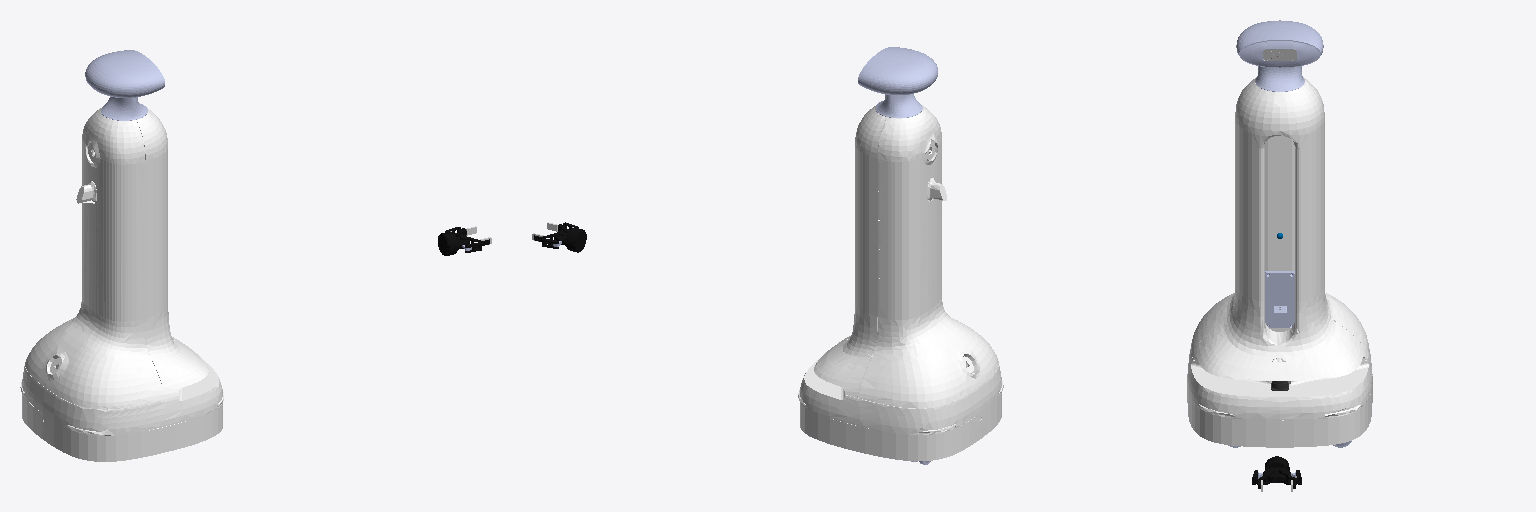
--- Facts derived from the render (not from the file) ---
3 views of the same robot in one strip: view 1: azimuth 30°, elevation 25°; view 2: azimuth 150°, elevation 25°; view 3: azimuth 270°, elevation 25° (orthographic).
Robot: mobile — 42 links, 41 joints (11 revolute, 15 continuous, 1 prismatic, 14 fixed); root link BaseLink; default pose: joints at zero except 3 at the middle of their limits (j2s7s300_joint_2 = 3.14, j2s7s300_joint_4 = 3.14, j2s7s300_joint_6 = 3.14).
Visible links, largest first — view 1: BodyShell, HeadShell, NeckShell; view 2: BodyShell, HeadShell, NeckShell; view 3: BodyShell, BaseLink, HeadShell, ArmBase, NeckShell.
Boxes of the visible links, x1,y1,x2,y2 form: BodyShell: (20, 108, 224, 461); HeadShell: (85, 50, 164, 97); NeckShell: (101, 97, 147, 120); BodyShell: (798, 105, 1003, 461); HeadShell: (858, 47, 937, 94); NeckShell: (875, 94, 922, 117); BodyShell: (1187, 77, 1372, 447); BaseLink: (1265, 135, 1294, 386); HeadShell: (1236, 20, 1323, 67); ArmBase: (1265, 271, 1294, 327); NeckShell: (1255, 66, 1304, 91).
Bounding box of the posed robot: 1.61 × 0.5562 × 1.29 m (x, y, z).
Meshes: 33 distinct files referenced, 25 mesh visuals loaded (21 binary STL); not drawn: 16 (reference not matched to a file when rendering).

The robot description file, URDF, robot "mobile":
<?xml version="1.0" encoding="utf-8"?>
<robot name="mobile">
  <!-- http://wiki.ros.org/simulator_gazebo/Tutorials/ListOfMaterials -->
  <!-- Bigger kp make it more stable -->
  <gazebo reference="BaseLink">
    <kp value="10000000000.0"/>
    <kd value="1.0"/>
    <mu1>0.1</mu1>
    <mu2>0.1</mu2>
    <self_collide>0</self_collide>
  </gazebo>
  <gazebo reference="ArmBase">
    <kp value="10000000000.0"/>
    <kd value="1.0"/>
    <mu1>0.1</mu1>
    <mu2>0.1</mu2>
    <self_collide>0</self_collide>
    <material>Gazebo/Yellow</material>
  </gazebo>
  <gazebo reference="DriWheel_R">
    <kp value="1000000000000.0"/>
    <kd value="1.0"/>
    <mu1>0.8</mu1>
    <mu2>0.8</mu2>
    <material>Gazebo/Blue</material>
  </gazebo>
  <gazebo reference="DriWheel_L">
    <kp value="1000000000000.0"/>
    <kd value="1.0"/>
    <mu1>0.8</mu1>
    <mu2>0.8</mu2>
    <material>Gazebo/Blue</material>
  </gazebo>
  <gazebo reference="UniWheel_LF">
    <mu1>0.8</mu1>
    <mu2>0.8</mu2>
    <material>Gazebo/BlueTransparent</material>
  </gazebo>
  <gazebo reference="UniWheel_RF">
    <mu1>0.8</mu1>
    <mu2>0.8</mu2>
    <material>Gazebo/BlueTransparent</material>
  </gazebo>
  <gazebo reference="UniWheel_LB">
    <mu1>0.8</mu1>
    <mu2>0.8</mu2>
    <material>Gazebo/BlueTransparent</material>
  </gazebo>
  <gazebo reference="UniWheel_RB">
    <mu1>0.8</mu1>
    <mu2>0.8</mu2>
    <material>Gazebo/BlueTransparent</material>
  </gazebo>
  <gazebo reference="HeadShell">
    <kp value="10000000000.0"/>
    <kd value="1.0"/>
    <material>Gazebo/RedBright</material>
  </gazebo>
  <gazebo reference="Radar_2D">
    <kp value="10000000000.0"/>
    <kd value="1.0"/>
    <material>Gazebo/DarkGrey</material>
  </gazebo>
  <gazebo reference="VisualPoint1">
    <material>Gazebo/Red</material>
  </gazebo>
  <gazebo reference="VisualPoint2">
    <material>Gazebo/Red</material>
  </gazebo>
  <gazebo reference="VisualPoint3">
    <material>Gazebo/Red</material>
  </gazebo>
  <gazebo reference="VisualWheel_L">
    <material>Gazebo/Red</material>
  </gazebo>
  <gazebo reference="VisualWheel_R">
    <material>Gazebo/Yellow</material>
  </gazebo>
  <gazebo reference="j2s7s300_link_base">
    <material>Gazebo/Grey</material>
  </gazebo>
  <gazebo reference="j2s7s300_link_1">
    <material>Gazebo/Grey</material>
  </gazebo>
  <gazebo reference="j2s7s300_link_2">
    <material>Gazebo/Grey</material>
  </gazebo>
  <gazebo reference="j2s7s300_link_3">
    <material>Gazebo/Grey</material>
  </gazebo>
  <gazebo reference="j2s7s300_link_4">
    <material>Gazebo/Grey</material>
  </gazebo>
  <gazebo reference="j2s7s300_link_5">
    <material>Gazebo/Grey</material>
  </gazebo>
  <gazebo reference="j2s7s300_link_6">
    <material>Gazebo/Grey</material>
  </gazebo>
  <gazebo reference="robotiq_base_link">
    <material>Gazebo/Grey</material>
    <self_collide>0</self_collide>
  </gazebo>
  <gazebo reference="right_inner_knuckle">
    <self_collide>0</self_collide>
  </gazebo>
  <gazebo reference="right_outer_knuckle">
    <self_collide>0</self_collide>
  </gazebo>
  <gazebo reference="right_outer_finger">
    <self_collide>0</self_collide>
  </gazebo>
  <gazebo reference="right_inner_finger">
  <material>Gazebo/Red</material>
    <self_collide>0</self_collide>
  </gazebo>
  <gazebo reference="left_inner_knuckle">
    <self_collide>0</self_collide>
  </gazebo>
  <gazebo reference="left_outer_knuckle">
    <self_collide>0</self_collide>
  </gazebo>
  <gazebo reference="left_outer_finger">
    <self_collide>0</self_collide>
  </gazebo>
  <gazebo reference="left_inner_finger">
    <self_collide>0</self_collide>
  </gazebo>
  <gazebo reference="right_inner_finger_pad">
    <self_collide>1</self_collide>
  </gazebo>
  <gazebo reference="left_inner_finger_pad">
    <self_collide>1</self_collide>
  </gazebo>
  <gazebo reference="mobile_end_effector">
    <material>Gazebo/GreenTransparent</material>
    <self_collide>0</self_collide>
  </gazebo>
  <!-- Mobile base -->
  <link
    name="BaseLink">
    <inertial>
      <origin
        xyz="-0.0311802154982621 1.17504338130459E-05 0.315211906825966"
        rpy="0 0 0" />
      <mass
        value="8.7968329124645" />
      <inertia
        ixx="0.186258716514256"
        ixy="-1.48518742834124E-05"
        ixz="-0.00154696059136798"
        iyy="0.203780508528874"
        iyz="1.05129920553985E-05"
        izz="0.079091000039605" />
    </inertial>
    <visual>
      <origin
        xyz="0 0 0"
        rpy="0 0 0" />
      <geometry>
        <mesh
          filename="package://mobile_base_urdf/model/base/v4/meshes/BaseLink.STL" />
      </geometry>
      <material
        name="">
        <color
          rgba="1 1 1 1" />
      </material>
    </visual>
    <collision>
      <origin rpy="0 0 0" xyz="0 0 0.025"/>
      <geometry>
        <box size="0.5 0.14 0.15"/>
      </geometry>
    </collision>
  </link>
  <link
    name="Radar_2D">
    <inertial>
      <origin
        xyz="6.20383105998101E-10 0.0216642806157543 -9.5633137657869E-05"
        rpy="0 0 0" />
      <mass
        value="0.111414847916921" />
      <inertia
        ixx="4.42568757050089E-05"
        ixy="5.54707912683361E-13"
        ixz="-1.43915040446869E-12"
        iyy="4.24275016408878E-05"
        iyz="-1.99911186975257E-07"
        izz="4.38954994136943E-05" />
    </inertial>
    <visual>
      <origin
        xyz="0 0 0"
        rpy="0 0 0" />
      <geometry>
        <mesh
          filename="package://mobile_base_urdf/model/base/v4/meshes/Lidar.STL" />
      </geometry>
      <material
        name="">
        <color
          rgba="0.258823529411765 0.258823529411765 0.258823529411765 1" />
      </material>
    </visual>
    <collision>
      <origin
        xyz="0 0 0"
        rpy="0 0 0" />
      <geometry>
        <mesh
          filename="package://mobile_base_urdf/model/base/v4/meshes/Lidar.STL" />
      </geometry>
    </collision>
  </link>
  <joint
    name="JT_Radar_2D"
    type="fixed">
    <origin
      xyz="0.1985 0 0.095"
      rpy="1.5708 0 1.5708" />
    <parent
      link="BaseLink" />
    <child
      link="Radar_2D" />
    <axis
      xyz="0 0 0" />
  </joint>
  <link
    name="UniWheelBase_RF">
    <inertial>
      <origin
        xyz="-0.0289122121608881 7.96029908656237E-14 -0.0182260960322876"
        rpy="0 0 0" />
      <mass
        value="0.0847351495375796" />
      <inertia
        ixx="3.34756139191196E-05"
        ixy="7.50114488966578E-17"
        ixz="-1.16340041790674E-05"
        iyy="6.07135705376021E-05"
        iyz="3.20838303655994E-17"
        izz="3.49474283390519E-05" />
    </inertial>
    <visual>
      <origin
        xyz="0 0 0"
        rpy="0 0 0" />
      <geometry>
        <mesh
          filename="package://mobile_base_urdf/model/base/v4/meshes/UniWheelPivot_RF.STL" />
      </geometry>
      <material
        name="">
        <color
          rgba="1 1 1 1" />
      </material>
    </visual>
  </link>
  <joint
    name="JT_UniWheelBase_RF"
    type="continuous">
    <origin
      xyz="0.185 -0.1585 -0.0043169"
      rpy="1.5708 -1.5708 0" />
    <parent
      link="BaseLink" />
    <child
      link="UniWheelBase_RF" />
    <axis
      xyz="1 0 0" />
    <limit
      lower="-1000000000000"
      upper="1000000000000"
      effort="100"
      velocity="30" />
    <dynamics
      damping="0.01"
      friction="0.001"/>
  </joint>
  <link
    name="UniWheel_RF">
    <inertial>
      <origin
        xyz="2.82717186675385E-08 2.14311952628776E-08 3.03619636168873E-08"
        rpy="0 0 0" />
      <mass
        value="0.131455385692783" />
      <inertia
        ixx="4.67616618745289E-05"
        ixy="-2.20955469793984E-11"
        ixz="-5.77989335033432E-10"
        iyy="8.85134138944847E-05"
        iyz="-2.24056751711574E-11"
        izz="4.67628266240816E-05" />
    </inertial>
    <visual>
      <origin
        xyz="0 0 0"
        rpy="0 0 0" />
      <geometry>
        <mesh
          filename="package://mobile_base_urdf/model/base/v4/meshes/UniWheel_RF.STL" />
      </geometry>
      <material
        name="">
        <color
          rgba="0.792156862745098 0.819607843137255 0.933333333333333 1" />
      </material>
    </visual>
    <collision>
      <origin
        xyz="0 0 0"
        rpy="1.57079632679489661923 0 0" />
      <geometry>
        <cylinder length="0.001" radius="0.0375" />
      </geometry>
    </collision>
  </link>
  <joint
    name="JT_UniWheel_RF"
    type="continuous">
    <origin
      xyz="-0.042183 0 -0.024"
      rpy="0 -1.5708 0" />
    <parent
      link="UniWheelBase_RF" />
    <child
      link="UniWheel_RF" />
    <axis
      xyz="0 1 0" />
    <limit
      lower="-1000000000000"
      upper="1000000000000"
      effort="100"
      velocity="30" />
    <dynamics
      damping="0.01"
      friction="0.001"/>
  </joint>
  <link
    name="UniWheelBase_LF">
    <inertial>
      <origin
        xyz="-0.028912212160888 7.96029908656237E-14 -0.0182260960322876"
        rpy="0 0 0" />
      <mass
        value="0.0847351495375796" />
      <inertia
        ixx="3.34756139191196E-05"
        ixy="7.50107342044398E-17"
        ixz="-1.16340041790674E-05"
        iyy="6.07135705376022E-05"
        iyz="3.20810669265241E-17"
        izz="3.49474283390519E-05" />
    </inertial>
    <visual>
      <origin
        xyz="0 0 0"
        rpy="0 0 0" />
      <geometry>
        <mesh
          filename="package://mobile_base_urdf/model/base/v4/meshes/UniWheelPivot_LF.STL" />
      </geometry>
      <material
        name="">
        <color
          rgba="1 1 1 1" />
      </material>
    </visual>
  </link>
  <joint
    name="JT_UniWheelBase_LF"
    type="continuous">
    <origin
      xyz="0.185 0.1585 -0.00431688785512865"
      rpy="1.5707963267949 -1.5707963267949 0" />
    <parent
      link="BaseLink" />
    <child
      link="UniWheelBase_LF" />
    <axis
      xyz="1 0 0" />
    <limit
      lower="-1000000000000"
      upper="1000000000000"
      effort="100"
      velocity="30" />
    <dynamics
      damping="0.01"
      friction="0.001"/>
  </joint>
  <link
    name="UniWheel_LF">
    <inertial>
      <origin
        xyz="-1.63190614910214E-08 2.14311952073665E-08 3.81421963735473E-08"
        rpy="0 0 0" />
      <mass
        value="0.131455385692783" />
      <inertia
        ixx="4.67630636523249E-05"
        ixy="1.15437256666207E-11"
        ixz="-4.25528389794276E-11"
        iyy="8.85134138944848E-05"
        iyz="-2.92740747055511E-11"
        izz="4.67614248462869E-05" />
    </inertial>
    <visual>
      <origin
        xyz="0 0 0"
        rpy="0 0 0" />
      <geometry>
        <mesh
          filename="package://mobile_base_urdf/model/base/v4/meshes/UniWheel_LF.STL" />
      </geometry>
      <material
        name="">
        <color
          rgba="0.792156862745098 0.819607843137255 0.933333333333333 1" />
      </material>
    </visual>
    <collision>
      <origin
        xyz="0 0 0"
        rpy="1.57079632679489661923 0 0" />
      <geometry>
        <cylinder length="0.001" radius="0.0375" />
      </geometry>
    </collision>
  </link>
  <joint
    name="JT_UniWheel_LF"
    type="continuous">
    <origin
      xyz="-0.042183 0 -0.024"
      rpy="0 -1.5708 0" />
    <parent
      link="UniWheelBase_LF" />
    <child
      link="UniWheel_LF" />
    <axis
      xyz="0 1 0" />
    <limit
      lower="-1000000000000"
      upper="1000000000000"
      effort="100"
      velocity="30" />
    <dynamics
      damping="0.01"
      friction="0.001"/>
  </joint>
  <link
    name="UniWheelBase_RB">
    <inertial>
      <origin
        xyz="-0.0289122121598695 7.96029908656237E-14 -0.0182260960322876"
        rpy="0 0 0" />
      <mass
        value="0.0847351495375796" />
      <inertia
        ixx="3.34756139191196E-05"
        ixy="7.50002400117997E-17"
        ixz="-1.16340041790674E-05"
        iyy="6.07135705376021E-05"
        iyz="3.2068961265564E-17"
        izz="3.49474283390519E-05" />
    </inertial>
    <visual>
      <origin
        xyz="0 0 0"
        rpy="0 0 0" />
      <geometry>
        <mesh
          filename="package://mobile_base_urdf/model/base/v4/meshes/UniWheelPivot_RB.STL" />
      </geometry>
      <material
        name="">
        <color
          rgba="1 1 1 1" />
      </material>
    </visual>
  </link>
  <joint
    name="JT_UniWheelBase_RB"
    type="continuous">
    <origin
      xyz="-0.185 -0.1585 -0.00431688785512863"
      rpy="1.5707963267949 -1.5707963267949 0" />
    <parent
      link="BaseLink" />
    <child
      link="UniWheelBase_RB" />
    <axis
      xyz="1 0 0" />
    <limit
      lower="-1000000000000"
      upper="1000000000000"
      effort="100"
      velocity="30" />
    <dynamics
      damping="0.01"
      friction="0.001"/>
  </joint>
  <link
    name="UniWheel_RB">
    <inertial>
      <origin
        xyz="-1.63190614563269E-08 2.14311951796109E-08 3.81421963388529E-08"
        rpy="0 0 0" />
      <mass
        value="0.131455385692783" />
      <inertia
        ixx="4.67630636523245E-05"
        ixy="1.15437256434612E-11"
        ixz="-4.25528389606465E-11"
        iyy="8.85134138944848E-05"
        iyz="-2.92740747818311E-11"
        izz="4.67614248462865E-05" />
    </inertial>
    <visual>
      <origin
        xyz="0 0 0"
        rpy="0 0 0" />
      <geometry>
        <mesh
          filename="package://mobile_base_urdf/model/base/v4/meshes/UniWheel_RB.STL" />
      </geometry>
      <material
        name="">
        <color
          rgba="0.792156862745098 0.819607843137255 0.933333333333333 1" />
      </material>
    </visual>
    <collision>
      <origin
        xyz="0 0 0"
        rpy="1.57079632679489661923 0 0" />
      <geometry>
        <cylinder length="0.001" radius="0.0375" />
      </geometry>
    </collision>
  </link>
  <joint
    name="JT_UniWheel_RB"
    type="continuous">
    <origin
      xyz="-0.042183 0 -0.024"
      rpy="0 -1.5708 0" />
    <parent
      link="UniWheelBase_RB" />
    <child
      link="UniWheel_RB" />
    <axis
      xyz="0 1 0" />
    <limit
      lower="-1000000000000"
      upper="1000000000000"
      effort="100"
      velocity="30" />
    <dynamics
      damping="0.01"
      friction="0.001"/>
  </joint>
  <link
    name="UniWheelBase_LB">
    <inertial>
      <origin
        xyz="-0.0289122121598694 7.95752352900081E-14 -0.0182260960322876"
        rpy="0 0 0" />
      <mass
        value="0.0847351495375797" />
      <inertia
        ixx="3.34756139191196E-05"
        ixy="7.50052988252789E-17"
        ixz="-1.16340041790674E-05"
        iyy="6.07135705376022E-05"
        iyz="3.20738964835275E-17"
        izz="3.49474283390519E-05" />
    </inertial>
    <visual>
      <origin
        xyz="0 0 0"
        rpy="0 0 0" />
      <geometry>
        <mesh
          filename="package://mobile_base_urdf/model/base/v4/meshes/UniWheelPivot_LB.STL" />
      </geometry>
      <material
        name="">
        <color
          rgba="1 1 1 1" />
      </material>
    </visual>
  </link>
  <joint
    name="JT_UniWheelBase_LB"
    type="continuous">
    <origin
      xyz="-0.185 0.1585 -0.0043169"
      rpy="1.5708 -1.5708 0" />
    <parent
      link="BaseLink" />
    <child
      link="UniWheelBase_LB" />
    <axis
      xyz="1 0 0" />
    <limit
      lower="-1000000000000"
      upper="1000000000000"
      effort="100"
      velocity="30" />
    <dynamics
      damping="0.01"
      friction="0.001"/>
  </joint>
  <link
    name="UniWheel_LB">
    <inertial>
      <origin
        xyz="-1.63190614910214E-08 2.14311952073665E-08 3.81421963596695E-08"
        rpy="0 0 0" />
      <mass
        value="0.131455385692783" />
      <inertia
        ixx="4.67630636523245E-05"
        ixy="1.15437256326157E-11"
        ixz="-4.25528389682312E-11"
        iyy="8.85134138944848E-05"
        iyz="-2.92740746535266E-11"
        izz="4.67614248462866E-05" />
    </inertial>
    <visual>
      <origin
        xyz="0 0 0"
        rpy="0 0 0" />
      <geometry>
        <mesh
          filename="package://mobile_base_urdf/model/base/v4/meshes/UniWheel_LB.STL" />
      </geometry>
      <material
        name="">
        <color
          rgba="0.792156862745098 0.819607843137255 0.933333333333333 1" />
      </material>
    </visual>
    <collision>
      <origin
        xyz="0 0 0"
        rpy="1.57079632679489661923 0 0" />
      <geometry>
        <cylinder length="0.001" radius="0.0375" />
      </geometry>
    </collision>
  </link>
  <joint
    name="JT_UniWheel_LB"
    type="continuous">
    <origin
      xyz="-0.0421831121443616 0 -0.024"
      rpy="0 -1.5707963267949 0" />
    <parent
      link="UniWheelBase_LB" />
    <child
      link="UniWheel_LB" />
    <axis
      xyz="0 1 0" />
    <limit
      lower="-1000000000000"
      upper="1000000000000"
      effort="100"
      velocity="30" />
    <dynamics
      damping="0.01"
      friction="0.001"/>
  </joint>
  <link
    name="DriWheel_L">
    <inertial>
      <origin
        xyz="7.00910488723022E-19 2.29657315570231E-06 8.67361737988404E-19"
        rpy="0 0 0" />
      <mass
        value="0.991630823915776" />
      <inertia
        ixx="0.00184507083744811"
        ixy="-3.379158989595E-21"
        ixz="3.3889717648391E-36"
        iyy="0.00334198159600445"
        iyz="5.46421202140047E-36"
        izz="0.00184507083744811" />
    </inertial>
    <visual>
      <origin
        xyz="0 0 0"
        rpy="0 0 0" />
      <geometry>
        <mesh
          filename="package://mobile_base_urdf/model/base/v4/meshes/DriWheel_L.STL" />
      </geometry>
      <material
        name="">
        <color
          rgba="1 1 1 1" />
      </material>
    </visual>
    <collision>
      <origin rpy="1.57079632679489661923 0 0" xyz="0 0 0"/>
      <geometry>
        <cylinder length="0.001" radius="0.0843"/>
      </geometry>
    </collision>
  </link>
  <joint
    name="JT_DriWheel_L"
    type="continuous">
    <origin
      xyz="0 0.19865 0"
      rpy="0 0 0" />
    <parent
      link="BaseLink" />
    <child
      link="DriWheel_L" />
    <axis
      xyz="0 1 0" />
    <limit
      lower="-1000000000000"
      upper="1000000000000"
      effort="1000"
      velocity="30" />
    <dynamics
      damping="0.01"
      friction="0.001"/>
  </joint>
  <link
    name="DriWheel_R">
    <inertial>
      <origin
        xyz="3.80487199906632E-18 -2.29657315570231E-06 0"
        rpy="0 0 0" />
      <mass
        value="0.991630823915776" />
      <inertia
        ixx="0.00184507083744811"
        ixy="4.54703773356873E-19"
        ixz="1.69406589450849E-21"
        iyy="0.00334198159600445"
        iyz="-8.74951063712164E-22"
        izz="0.00184507083744811" />
    </inertial>
    <visual>
      <origin
        xyz="0 0 0"
        rpy="0 0 0" />
      <geometry>
        <mesh
          filename="package://mobile_base_urdf/model/base/v4/meshes/DriWheel_R.STL" />
      </geometry>
      <material
        name="">
        <color
          rgba="1 1 1 1" />
      </material>
    </visual>
    <collision>
      <origin rpy="1.57079632679489661923 0 0" xyz="0 0 0"/>
      <geometry>
        <cylinder length="0.001" radius="0.0843"/>
      </geometry>
    </collision>
  </link>
  <joint
    name="JT_DriWheel_R"
    type="continuous">
    <origin
      xyz="0 -0.19865 0"
      rpy="0 0 0" />
    <parent
      link="BaseLink" />
    <child
      link="DriWheel_R" />
    <axis
      xyz="0 1 0" />
    <limit
      lower="-1000000000000"
      upper="1000000000000"
      effort="1000"
      velocity="30" />
    <dynamics
      damping="0.01"
      friction="0.001"/>
  </joint>
  <link
    name="ArmBase">
    <inertial>
      <origin
        xyz="-0.0306974842711243 -0.000955398394232504 0.0354516942274083"
        rpy="0 0 0" />
      <mass
        value="0.833236204792763" />
      <inertia
        ixx="0.00262276376774655"
        ixy="-6.9599475549375E-07"
        ixz="5.15168201230645E-05"
        iyy="0.00186363387009509"
        iyz="8.78496595339785E-07"
        izz="0.00105932573712803" />
    </inertial>
    <visual>
      <origin
        xyz="0 0 0"
        rpy="0 0 0" />
      <geometry>
        <mesh
          filename="package://mobile_base_urdf/model/base/v4/meshes/ArmBase.STL" />
      </geometry>
      <material
        name="">
        <color
          rgba="0.796078431372549 0.823529411764706 0.937254901960784 1" />
      </material>
    </visual>
    <collision>
      <origin
        xyz="0 0 0"
        rpy="0 0 0" />
      <geometry>
        <mesh
          filename="package://mobile_base_urdf/model/base/v4/meshes/ArmBase.STL" />
      </geometry>
    </collision>
  </link>
  <joint
    name="JT_ArmBase"
    type="prismatic">
    <origin
      xyz="0.063 0.001 0.2955"
      rpy="0 0 0" />
    <parent
      link="BaseLink" />
    <child
      link="ArmBase" />
    <axis
      xyz="0 0 1" />
    <limit
      lower="0"
      upper="0.585"
      effort="1000"
      velocity="0.06" />
  </joint>
  <link
    name="Pantilt_PanLink">
    <inertial>
      <origin
        xyz="0.000554299127061951 -3.49485223612167E-06 0.0547778067465923"
        rpy="0 0 0" />
      <mass
        value="0.226677336025464" />
      <inertia
        ixx="0.000142637008072705"
        ixy="2.77462848098286E-10"
        ixz="4.76129503110727E-17"
        iyy="7.22794203939845E-05"
        iyz="-2.37581213250001E-16"
        izz="0.000154987832286111" />
    </inertial>
    <visual>
      <origin
        xyz="0 0 0"
        rpy="0 0 0" />
      <geometry>
        <mesh
          filename="package://mobile_base_urdf/model/base/v4/meshes/PanSet.STL" />
      </geometry>
      <material
        name="">
        <color
          rgba="0.752941176470588 0.752941176470588 0.752941176470588 1" />
      </material>
    </visual>
    <collision>
      <origin
        xyz="0 0 0"
        rpy="0 0 0" />
      <geometry>
        <mesh
          filename="package://mobile_base_urdf/model/base/v4/meshes/PanSet.STL" />
      </geometry>
    </collision>
  </link>
  <joint
    name="JT_Pantilt_PanLink"
    type="continuous">
    <origin
      xyz="0 0 1.0091"
      rpy="0 0 0" />
    <parent
      link="BaseLink" />
    <child
      link="Pantilt_PanLink" />
    <axis
      xyz="0 0 1" />
    <limit
      effort="20"
      lower="-100000"
      upper="100000"
      velocity="30"/>
    <dynamics
      damping="0.2"
      friction="0.0"/>
  </joint>
  <link
    name="Pantilt_TiltLink">
    <inertial>
      <origin
        xyz="0.00627852264147075 -1.3351967463604E-05 0.0451641775455638"
        rpy="0 0 0" />
      <mass
        value="0.337334688556195" />
      <inertia
        ixx="0.00094709872727437"
        ixy="2.97365722461131E-07"
        ixz="-4.12017268066108E-06"
        iyy="0.000509489116148601"
        iyz="-2.57100827181398E-08"
        izz="0.00142454025924575" />
    </inertial>
    <visual>
      <origin
        xyz="0 0 0"
        rpy="0 0 0" />
      <geometry>
        <mesh
          filename="package://mobile_base_urdf/model/base/v4/meshes/TiltSet.STL" />
      </geometry>
      <material
        name="">
        <color
          rgba="0.752941176470588 0.752941176470588 0.752941176470588 1" />
      </material>
    </visual>
    <collision>
      <origin
        xyz="0 0 0"
        rpy="0 0 0" />
      <geometry>
        <mesh
          filename="package://mobile_base_urdf/model/base/v4/meshes/TiltSet.STL" />
      </geometry>
    </collision>
  </link>
  <joint
    name="JT_Pantilt_TiltLink"
    type="continuous">
    <origin
      xyz="0 0 0.10056"
      rpy="0 0 0" />
    <parent
      link="Pantilt_PanLink" />
    <child
      link="Pantilt_TiltLink" />
    <axis
      xyz="0 1 0" />
    <limit
      effort="20"
      lower="-100000"
      upper="100000"
      velocity="30"/>
    <dynamics
      damping="0.2"
      friction="0.0"/>
  </joint>
  <!-- Shell -->
  <link
    name="BodyShell">
    <inertial>
      <origin
        xyz="-0.00438421880768753 8.31574203594421E-05 0.375180994226469"
        rpy="0 0 0" />
      <mass
        value="6.96027412074526" />
      <inertia
        ixx="0.54240738104732"
        ixy="-3.13858711109322E-05"
        ixz="-0.0126584262855019"
        iyy="0.492210055619746"
        iyz="4.12720577585476E-05"
        izz="0.251787815510178" />
    </inertial>
    <visual>
      <origin
        xyz="0 0 0"
        rpy="0 0 0" />
      <geometry>
        <mesh
          filename="package://mobile_base_urdf/model/base/v4/meshes/BodyShell.STL" />
      </geometry>
      <material
        name="">
        <color
          rgba="1 1 1 1" />
      </material>
    </visual>
    <collision>
      <origin
        xyz="0 0 0"
        rpy="0 0 0" />
      <geometry>
        <mesh
          filename="package://mobile_base_urdf/model/base/v4/meshes/BodyShell.STL" />
      </geometry>
    </collision>
  </link>
  <joint
    name="JT_BodyShell"
    type="fixed">
    <origin
      xyz="0 0 0"
      rpy="0 0 0" />
    <parent
      link="BaseLink" />
    <child
      link="BodyShell" />
    <axis
      xyz="0 0 0" />
  </joint>
  <link
    name="HeadShell">
    <inertial>
      <origin
        xyz="-0.00389933532083145 0.0427764441730733 0.87165278052167"
        rpy="0 0 0" />
      <mass
        value="0.354445891112852" />
      <inertia
        ixx="0.00118414996131452"
        ixy="-0.000144474967856168"
        ixz="-1.2439502307308E-06"
        iyy="0.00211641739988207"
        iyz="8.93972375142148E-06"
        izz="0.00314939565459275" />
    </inertial>
    <visual>
      <origin
        xyz="0 0 0"
        rpy="0 0 0" />
      <geometry>
        <mesh
          filename="package://mobile_base_urdf/model/base/v4/meshes/HeadShell.STL" />
      </geometry>
      <material
        name="">
        <color
          rgba="0.792156862745098 0.819607843137255 0.933333333333333 1" />
      </material>
    </visual>
    <collision>
      <origin
        xyz="0 0 0"
        rpy="0 0 0" />
      <geometry>
        <mesh
          filename="package://mobile_base_urdf/model/base/v4/meshes/HeadShell.STL" />
      </geometry>
    </collision>
  </link>
  <joint
    name="JT_HeadShell"
    type="fixed">
    <origin
      xyz="0.049958 -0.0025918 -0.81864"
      rpy="-0.019346 -0.0029375 1.4201" />
    <parent
      link="Pantilt_TiltLink" />
    <child
      link="HeadShell" />
    <axis
      xyz="0 0 0" />
  </joint>
  <link
    name="NeckShell">
    <inertial>
      <origin
        xyz="-0.00241306537212758 0.033137204350725 0.788402712710511"
        rpy="0 0 0" />
      <mass
        value="0.137012264555895" />
      <inertia
        ixx="0.000183280169998726"
        ixy="-2.80282933564336E-05"
        ixz="-3.68462241307317E-07"
        iyy="0.000363621283724574"
        iyz="2.46058968589238E-06"
        izz="0.000261586764660329" />
    </inertial>
    <visual>
      <origin
        xyz="0 0 0"
        rpy="0 0 0" />
      <geometry>
        <mesh
          filename="package://mobile_base_urdf/model/base/v4/meshes/NeckShell.STL" />
      </geometry>
      <material
        name="">
        <color
          rgba="0.792156862745098 0.819607843137255 0.933333333333333 1" />
      </material>
    </visual>
    <collision>
      <origin
        xyz="0 0 0"
        rpy="0 0 0" />
      <geometry>
        <mesh
          filename="package://mobile_base_urdf/model/base/v4/meshes/NeckShell.STL" />
      </geometry>
    </collision>
  </link>
  <joint
    name="JT_NeckShell"
    type="fixed">
    <origin
      xyz="-0.033931 0.0025889 -0.72354"
      rpy="0 0 -1.7215" />
    <parent
      link="Pantilt_PanLink" />
    <child
      link="NeckShell" />
    <axis
      xyz="0 0 0" />
  </joint>
  <!-- Base visualization -->
  <link name="VisualWheel_L">
    <visual>
      <origin xyz="0 0.024 0" rpy="0 0 0" />
      <geometry>
        <box size="0.01 0.001 0.15"/>
      </geometry>
    </visual>
  </link>
  <joint name="JT_VisualWheel_L"
    type="fixed">
    <origin
      xyz="0 0 0"
      rpy="0 0 0" />
    <parent
      link="DriWheel_L" />
    <child
      link="VisualWheel_L" />
  </joint>
  <link name="VisualWheel_R">
    <visual>
      <origin xyz="0 -0.024 0" rpy="0 0 0" />
      <geometry>
        <box size="0.01 0.001 0.15"/>
      </geometry>
    </visual>
  </link>
  <joint name="JT_VisualWheel_R"
    type="fixed">
    <origin
      xyz="0 0 0"
      rpy="0 0 0" />
    <parent
      link="DriWheel_R" />
    <child
      link="VisualWheel_R" />
  </joint>
  <link name="VisualPoint1">
    <visual>
      <origin xyz="0 0 0" rpy="0 0 0" />
      <geometry>
        <sphere radius="0.01"/>
      </geometry>
    </visual>
  </link>
  <joint name="JT_VisualPoint1"
    type="fixed">
    <origin
      xyz="0.063 0 0.55"
      rpy="0 0 0" />
    <parent
      link="BaseLink" />
    <child
      link="VisualPoint1" />
  </joint>
  <link name="VisualPoint2">
    <visual>
      <origin xyz="0 0 0" rpy="0 0 0" />
      <geometry>
        <sphere radius="0.01"/>
      </geometry>
    </visual>
  </link>
  <joint name="JT_VisualPoint2"
    type="fixed">
    <origin
      xyz="0.063 0 0.95"
      rpy="0 0 0" />
    <parent
      link="BaseLink" />
    <child
      link="VisualPoint2" />
  </joint>
  <link name="VisualPoint3">
    <visual>
      <origin xyz="0 0 0" rpy="0 0 0" />
      <geometry>
        <sphere radius="0.01"/>
      </geometry>
    </visual>
  </link>
  <joint name="JT_VisualPoint3"
    type="fixed">
    <origin
      xyz="0.063 0 1.15"
      rpy="0 0 0" />
    <parent
      link="BaseLink" />
    <child
      link="VisualPoint3" />
  </joint>
  <!-- Kinova arm -->
  <link name="j2s7s300_link_base">
    <visual>
      <geometry>
        <mesh filename="package://mobile_base_urdf/model/arm/kinova/meshes/base.dae"/>
      </geometry>
      <material name="carbon_fiber">
        <color rgba="0.792156862745098 0.819607843137255 0.933333333333333 1"/>
      </material>
    </visual>
    <inertial>
      <mass value="0.46784"/>
      <origin rpy="0 0 0" xyz="0 0 0.1255"/>
      <inertia ixx="0.000951270861568" ixy="0" ixz="0" iyy="0.000951270861568" iyz="0" izz="0.000374272"/>
    </inertial>
  </link>
  <joint name="j2s7s300_joint_base" type="fixed">
    <parent link="ArmBase"/>
    <child link="j2s7s300_link_base"/>
    <axis xyz="0 0 0"/>
    <limit effort="50" lower="0" upper="0" velocity="30"/>
    <origin rpy="0 1.57079632679489661923 0" xyz="0 0 0"/>
    <dynamics damping=".2" friction=".0"/>
  </joint>
  <link name="j2s7s300_link_1">
    <visual>
      <geometry>
        <mesh filename="package://mobile_base_urdf/model/arm/kinova/meshes/shoulder.dae"/>
      </geometry>
      <material name="carbon_fiber">
        <color rgba="0.792156862745098 0.819607843137255 0.933333333333333 1"/>
      </material>
    </visual>
    <visual>
      <geometry>
        <mesh filename="package://mobile_base_urdf/model/arm/kinova/meshes/ring_big.STL"/>
      </geometry>
    </visual>
    <inertial>
      <mass value="0.7477"/>
      <origin xyz="0 -0.002 -0.0605"/>
      <inertia ixx="0.00152031725204" ixy="0" ixz="0" iyy="0.00152031725204" iyz="0" izz="0.00059816"/>
    </inertial>
  </link>
  <joint name="j2s7s300_joint_1" type="continuous">
    <parent link="j2s7s300_link_base"/>
    <child link="j2s7s300_link_1"/>
    <axis xyz="0 0 1"/>
    <limit effort="50" lower="-6.28318530718" upper="6.28318530718" velocity="30"/>
    <origin rpy="0 3.14159265358979323846 0" xyz="0 0 0.15675"/>
    <dynamics damping=".2" friction=".0"/>
  </joint>
  <transmission name="j2s7s300_joint_1_trans">
    <type>transmission_interface/SimpleTransmission</type>
    <joint name="j2s7s300_joint_1">
      <hardwareInterface>hardware_interface/EffortJointInterface</hardwareInterface>
    </joint>
    <actuator name="j2s7s300_joint_1_actuator">
      <hardwareInterface>hardware_interface/EffortJointInterface</hardwareInterface>
      <mechanicalReduction>160</mechanicalReduction>
    </actuator>
  </transmission>
  <link name="j2s7s300_link_2">
    <visual>
      <geometry>
        <mesh filename="package://mobile_base_urdf/model/arm/kinova/meshes/arm_half_1.dae"/>
      </geometry>
      <material name="carbon_fiber">
        <color rgba="0.792156862745098 0.819607843137255 0.933333333333333 1"/>
      </material>
    </visual>
    <visual>
      <geometry>
        <mesh filename="package://mobile_base_urdf/model/arm/kinova/meshes/ring_big.STL"/>
      </geometry>
    </visual>
    <collision>
      <geometry>
        <mesh filename="package://mobile_base_urdf/model/arm/kinova/meshes/arm_half_1.dae"/>
      </geometry>
    </collision>
    <inertial>
      <mass value="0.8447"/>
      <origin xyz="0 -0.103563213 0"/>
      <inertia ixx="0.00247073761701" ixy="0" ixz="0" iyy="0.000380115" iyz="0" izz="0.00247073761701"/>
    </inertial>
  </link>
  <joint name="j2s7s300_joint_2" type="revolute">
    <parent link="j2s7s300_link_1"/>
    <child link="j2s7s300_link_2"/>
    <axis xyz="0 0 1"/>
    <limit effort="50" lower="0.820304748437" upper="5.46288055874" velocity="30"/>
    <origin rpy="-1.57079632679489661923 0 3.14159265358979323846" xyz="0 0.0016 -0.11875"/>
    <dynamics damping=".2" friction=".0"/>
  </joint>
  <transmission name="j2s7s300_joint_2_trans">
    <type>transmission_interface/SimpleTransmission</type>
    <joint name="j2s7s300_joint_2">
      <hardwareInterface>hardware_interface/EffortJointInterface</hardwareInterface>
    </joint>
    <actuator name="j2s7s300_joint_2_actuator">
      <hardwareInterface>hardware_interface/EffortJointInterface</hardwareInterface>
      <mechanicalReduction>160</mechanicalReduction>
    </actuator>
  </transmission>
  <link name="j2s7s300_link_3">
    <visual>
      <geometry>
        <mesh filename="package://mobile_base_urdf/model/arm/kinova/meshes/arm_half_2.dae"/>
      </geometry>
      <material name="carbon_fiber">
        <color rgba="0.792156862745098 0.819607843137255 0.933333333333333 1"/>
      </material>
    </visual>
    <visual>
      <geometry>
        <mesh filename="package://mobile_base_urdf/model/arm/kinova/meshes/ring_big.STL"/>
      </geometry>
    </visual>
    <collision>
      <geometry>
        <mesh filename="package://mobile_base_urdf/model/arm/kinova/meshes/arm_half_2.dae"/>
      </geometry>
    </collision>
    <inertial>
      <mass value="0.8447"/>
      <origin xyz="0 0 -0.1022447445"/>
      <inertia ixx="0.00247073761701" ixy="0" ixz="0" iyy="0.00247073761701" iyz="0" izz="0.000380115"/>
    </inertial>
  </link>
  <joint name="j2s7s300_joint_3" type="continuous">
    <parent link="j2s7s300_link_2"/>
    <child link="j2s7s300_link_3"/>
    <axis xyz="0 0 1"/>
    <limit effort="50" lower="-6.28318530718" upper="6.28318530718" velocity="30"/>
    <origin rpy="-1.57079632679489661923 0 0" xyz="0 -0.205 0"/>
    <dynamics damping=".2" friction=".0"/>
  </joint>
  <transmission name="j2s7s300_joint_3_trans">
    <type>transmission_interface/SimpleTransmission</type>
    <joint name="j2s7s300_joint_3">
      <hardwareInterface>hardware_interface/EffortJointInterface</hardwareInterface>
    </joint>
    <actuator name="j2s7s300_joint_3_actuator">
      <hardwareInterface>hardware_interface/EffortJointInterface</hardwareInterface>
      <mechanicalReduction>160</mechanicalReduction>
    </actuator>
  </transmission>
  <link name="j2s7s300_link_4">
    <visual>
      <geometry>
        <mesh filename="package://mobile_base_urdf/model/arm/kinova/meshes/forearm.dae"/>
      </geometry>
      <material name="carbon_fiber">
        <color rgba="0.792156862745098 0.819607843137255 0.933333333333333 1"/>
      </material>
    </visual>
    <visual>
      <geometry>
        <mesh filename="package://mobile_base_urdf/model/arm/kinova/meshes/ring_small.STL"/>
      </geometry>
    </visual>
    <collision>
      <geometry>
        <mesh filename="package://mobile_base_urdf/model/arm/kinova/meshes/forearm.dae"/>
      </geometry>
    </collision>
    <inertial>
      <mass value="0.6763"/>
      <origin xyz="0 0.081 -0.0086"/>
      <inertia ixx="0.00142022431908" ixy="0" ixz="0" iyy="0.000304335" iyz="0" izz="0.00142022431908"/>
    </inertial>
  </link>
  <joint name="j2s7s300_joint_4" type="revolute">
    <parent link="j2s7s300_link_3"/>
    <child link="j2s7s300_link_4"/>
    <axis xyz="0 0 1"/>
    <limit effort="40" lower="0.523598775598" upper="5.75958653158" velocity="30"/>
    <origin rpy="1.57079632679489661923 0 3.14159265358979323846" xyz="0 0 -0.205"/>
    <dynamics damping=".2" friction=".0"/>
  </joint>
  <transmission name="j2s7s300_joint_4_trans">
    <type>transmission_interface/SimpleTransmission</type>
    <joint name="j2s7s300_joint_4">
      <hardwareInterface>hardware_interface/EffortJointInterface</hardwareInterface>
    </joint>
    <actuator name="j2s7s300_joint_4_actuator">
      <hardwareInterface>hardware_interface/EffortJointInterface</hardwareInterface>
      <mechanicalReduction>160</mechanicalReduction>
    </actuator>
  </transmission>
  <link name="j2s7s300_link_5">
    <visual>
      <geometry>
        <mesh filename="package://mobile_base_urdf/model/arm/kinova/meshes/wrist_spherical_1.dae"/>
      </geometry>
      <material name="carbon_fiber">
        <color rgba="0.792156862745098 0.819607843137255 0.933333333333333 1"/>
      </material>
    </visual>
    <visual>
      <geometry>
        <mesh filename="package://mobile_base_urdf/model/arm/kinova/meshes/ring_small.STL"/>
      </geometry>
    </visual>
    <collision>
      <geometry>
        <mesh filename="package://mobile_base_urdf/model/arm/kinova/meshes/wrist_spherical_1.dae"/>
      </geometry>
    </collision>
    <inertial>
      <mass value="0.463"/>
      <origin xyz="0 0.0028848942 -0.0541932613"/>
      <inertia ixx="0.0004321316048" ixy="0" ixz="0" iyy="0.0004321316048" iyz="0" izz="9.26e-05"/>
    </inertial>
  </link>
  <joint name="j2s7s300_joint_5" type="continuous">
    <parent link="j2s7s300_link_4"/>
    <child link="j2s7s300_link_5"/>
    <axis xyz="0 0 1"/>
    <limit effort="30" lower="-6.28318530718" upper="6.28318530718" velocity="30"/>
    <origin rpy="-1.57079632679489661923 0 3.14159265358979323846" xyz="0 0.2073 -0.0114"/>
    <dynamics damping=".2" friction=".0"/>
  </joint>
  <transmission name="j2s7s300_joint_5_trans">
    <type>transmission_interface/SimpleTransmission</type>
    <joint name="j2s7s300_joint_5">
      <hardwareInterface>hardware_interface/EffortJointInterface</hardwareInterface>
    </joint>
    <actuator name="j2s7s300_joint_5_actuator">
      <hardwareInterface>hardware_interface/EffortJointInterface</hardwareInterface>
      <mechanicalReduction>160</mechanicalReduction>
    </actuator>
  </transmission>
  <link name="j2s7s300_link_6">
    <visual>
      <geometry>
        <mesh filename="package://mobile_base_urdf/model/arm/kinova/meshes/wrist_spherical_2.dae"/>
      </geometry>
      <material name="carbon_fiber">
        <color rgba="0.792156862745098 0.819607843137255 0.933333333333333 1"/>
      </material>
    </visual>
    <visual>
      <geometry>
        <mesh filename="package://mobile_base_urdf/model/arm/kinova/meshes/ring_small.STL"/>
      </geometry>
    </visual>
    <collision>
      <geometry>
        <mesh filename="package://mobile_base_urdf/model/arm/kinova/meshes/wrist_spherical_2.dae"/>
      </geometry>
    </collision>
    <inertial>
      <mass value="0.463"/>
      <origin xyz="0 0.0497208855 -0.0028562765"/>
      <inertia ixx="0.0004321316048" ixy="0" ixz="0" iyy="9.26e-05" iyz="0" izz="0.0004321316048"/>
    </inertial>
  </link>
  <joint name="j2s7s300_joint_6" type="revolute">
    <parent link="j2s7s300_link_5"/>
    <child link="j2s7s300_link_6"/>
    <axis xyz="0 0 1"/>
    <limit effort="30" lower="1.1344640138" upper="5.14872129338" velocity="30"/>
    <origin rpy="1.57079632679489661923 0 3.14159265358979323846" xyz="0 0 -0.10375"/>
    <dynamics damping=".2" friction=".0"/>
  </joint>
  <transmission name="j2s7s300_joint_6_trans">
    <type>transmission_interface/SimpleTransmission</type>
    <joint name="j2s7s300_joint_6">
      <hardwareInterface>hardware_interface/EffortJointInterface</hardwareInterface>
    </joint>
    <actuator name="j2s7s300_joint_6_actuator">
      <hardwareInterface>hardware_interface/EffortJointInterface</hardwareInterface>
      <mechanicalReduction>160</mechanicalReduction>
    </actuator>
  </transmission>
  <link name="robotiq_base_link">
    <inertial>
      <origin
        rpy="0 0 0"
        xyz="8.625E-08 -4.6583E-06 0.03145"/>
      <mass
        value="0.22652"/>
      <inertia
        ixx="0.00020005"
        ixy="-4.2442E-10"
        ixz="-2.9069E-10"
        iyy="0.00017832"
        iyz="-3.4402E-08"
        izz="0.00013478"/>
    </inertial>
    <visual>
      <origin
        rpy="0 0 0"
        xyz="0 0 0"/>
      <geometry>
        <mesh filename="package://mobile_base_urdf/model/gripper/robotiq_2_85/meshes/visual/robotiq_arg2f_85_base_link.stl"/>
      </geometry>
      <material name="">
        <color rgba="0.1 0.1 0.1 1"/>
      </material>
    </visual>
    <collision>
      <origin rpy="0 0 0" xyz="0 0 0"/>
      <geometry>
        <mesh filename="package://mobile_base_urdf/model/gripper/robotiq_2_85/meshes/collision/robotiq_arg2f_85_base_link.stl"/>
      </geometry>
    </collision>
  </link>
  <joint name="j2s7s300_joint_7" type="revolute">
    <parent link="j2s7s300_link_6"/>
    <child link="robotiq_base_link"/>
    <axis xyz="0 0 1"/>
    <limit effort="20" lower="-6.28" upper="6.28" velocity="30"/>
    <origin rpy="-1.570796 0 0" xyz="0 0.10375 0"/>
    <!-- <origin rpy="1.57079632679489661923 0 3.14159265358979323846" xyz="0 0.10375 0"/> -->
    <dynamics damping=".2" friction=".0"/>
  </joint>
  <transmission name="j2s7s300_joint_7_trans">
    <type>transmission_interface/SimpleTransmission</type>
    <joint name="j2s7s300_joint_7">
      <hardwareInterface>hardware_interface/EffortJointInterface</hardwareInterface>
    </joint>
    <actuator name="j2s7s300_joint_7_actuator">
      <hardwareInterface>hardware_interface/EffortJointInterface</hardwareInterface>
      <mechanicalReduction>160</mechanicalReduction>
    </actuator>
  </transmission>
  <!-- Robotiq gripper -->
  <link name="left_outer_knuckle">
    <inertial>
      <origin
        rpy="0 0 0"
        xyz="-0.000200000000003065 0.0199435877845359 0.0292245259211331"/>
      <mass
        value="0.00853198276973456" />
      <inertia
        ixx="2.89328108496468E-06"
        ixy="-1.57935047237397E-19"
        ixz="-1.93980378593255E-19"
        iyy="1.86719750325683E-06"
        iyz="-1.21858577871576E-06"
        izz="1.21905238907251E-06" />
    </inertial>
    <visual>
      <origin
        rpy="0 0 0"
        xyz="0 0 0"/>
      <geometry>
        <mesh filename="package://mobile_base_urdf/model/gripper/robotiq_2_85/meshes/visual/robotiq_arg2f_85_outer_knuckle.stl"/>
      </geometry>
      <material name="">
        <color rgba="0.792156862745098 0.819607843137255 0.933333333333333 1"/>
      </material>
    </visual>
    <collision>
      <origin
        rpy="0 0 0"
        xyz="0 0 0"/>
      <geometry>
        <mesh filename="package://mobile_base_urdf/model/gripper/robotiq_2_85/meshes/collision/robotiq_arg2f_85_outer_knuckle.stl"/>
      </geometry>
    </collision>
  </link>
  <link name="left_outer_finger">
    <inertial>
      <origin
        rpy="0 0 0"
        xyz="0.00030115855001899 0.0373907951953854 -0.0208027427000385"/>
      <mass
        value="0.022614240507152" />
      <inertia
        ixx="1.52518312458174E-05"
        ixy="9.76583423954399E-10"
        ixz="-5.43838577022588E-10"
        iyy="6.17694243867776E-06"
        iyz="6.78636130740228E-06"
        izz="1.16494917907219E-05" />
    </inertial>
    <visual>
      <origin
        rpy="0 0 0"
        xyz="0 0 0"/>
      <geometry>
        <mesh filename="package://mobile_base_urdf/model/gripper/robotiq_2_85/meshes/visual/robotiq_arg2f_85_outer_finger.stl"/>
      </geometry>
      <material name="">
        <color rgba="0.1 0.1 0.1 1"/>
      </material>
    </visual>
    <collision>
      <origin
        rpy="0 0 0"
        xyz="0 0 0"/>
      <geometry>
        <mesh filename="package://mobile_base_urdf/model/gripper/robotiq_2_85/meshes/collision/robotiq_arg2f_85_outer_finger.stl"/>
      </geometry>
    </collision>
  </link>
  <link name="left_inner_finger">
    <inertial>
      <origin
        rpy="0 0 0"
        xyz="0.000299999999999317 0.0160078233491243 -0.0136945669206257"/>
      <mass
        value="0.0104003125914103" />
      <inertia
        ixx="2.71909453810972E-06"
        ixy="1.35402465472579E-21"
        ixz="-7.1817349065269E-22"
        iyy="7.69100314106116E-07"
        iyz="6.74715432769696E-07"
        izz="2.30315190420171E-06" />
    </inertial>
    <visual>
      <origin
        rpy="0 0 0"
        xyz="0 0 0"/>
      <geometry>
        <mesh filename="package://mobile_base_urdf/model/gripper/robotiq_2_85/meshes/visual/robotiq_arg2f_85_inner_finger.stl"/>
      </geometry>
      <material name="">
        <color rgba="0.1 0.1 0.1 1"/>
      </material>
    </visual>
    <collision>
      <origin
        rpy="0 0 0"
        xyz="0 0 0"/>
      <geometry>
        <mesh filename="package://mobile_base_urdf/model/gripper/robotiq_2_85/meshes/collision/robotiq_arg2f_85_inner_finger.stl"/>
      </geometry>
    </collision>
  </link>
  <link name="left_inner_finger_pad">
    <visual>
      <origin
        rpy="0 0 0"
        xyz="0 0 0"/>
      <geometry>
        <box size="0.022 0.00635 0.0375"/>
      </geometry>
      <material name="">
        <color rgba="0.9 0.9 0.9 1"/>
      </material>
    </visual>
    <collision>
      <origin
        rpy="0 0 0"
        xyz="0 0 0"/>
      <geometry>
        <box size="0.022 0.00635 0.0375"/>
      </geometry>
      <material name="">
        <color rgba="0.9 0.0 0.0 1"/>
      </material>
    </collision>
  </link>
  <link name="left_inner_knuckle">
    <inertial>
      <origin
        rpy="0 0 0"
        xyz="0.000123011831763771 0.0507850843201817 0.00103968640075166"/>
      <mass
        value="0.0271177346495152" />
      <inertia
        ixx="2.61910379223783E-05"
        ixy="-2.43616858946494E-07"
        ixz="-6.37789906117123E-09"
        iyy="2.8270243746167E-06"
        iyz="-5.37200748039765E-07"
        izz="2.83695868220296E-05" />
    </inertial>
    <visual>
      <origin
        rpy="0 0 0"
        xyz="0 0 0"/>
      <geometry>
        <mesh filename="package://mobile_base_urdf/model/gripper/robotiq_2_85/meshes/visual/robotiq_arg2f_85_inner_knuckle.stl"/>
      </geometry>
      <material name="">
        <color rgba="0.1 0.1 0.1 1"/>
      </material>
    </visual>
    <collision>
      <origin
        rpy="0 0 0"
        xyz="0 0 0"/>
      <geometry>
        <mesh filename="package://mobile_base_urdf/model/gripper/robotiq_2_85/meshes/collision/robotiq_arg2f_85_inner_knuckle.stl"/>
      </geometry>
    </collision>
  </link>
  <link name="right_outer_knuckle">
    <inertial>
      <origin
        rpy="0 0 0"
        xyz="-0.000200000000003065 0.0199435877845359 0.0292245259211331"/>
      <mass
        value="0.00853198276973456" />
      <inertia
        ixx="2.89328108496468E-06"
        ixy="-1.57935047237397E-19"
        ixz="-1.93980378593255E-19"
        iyy="1.86719750325683E-06"
        iyz="-1.21858577871576E-06"
        izz="1.21905238907251E-06" />
    </inertial>
    <visual>
      <origin
        rpy="0 0 0"
        xyz="0 0 0"/>
      <geometry>
        <mesh filename="package://mobile_base_urdf/model/gripper/robotiq_2_85/meshes/visual/robotiq_arg2f_85_outer_knuckle.stl"/>
      </geometry>
      <material name="">
        <color rgba="0.792156862745098 0.819607843137255 0.933333333333333 1"/>
      </material>
    </visual>
    <collision>
      <origin
        rpy="0 0 0"
        xyz="0 0 0"/>
      <geometry>
        <mesh filename="package://mobile_base_urdf/model/gripper/robotiq_2_85/meshes/collision/robotiq_arg2f_85_outer_knuckle.stl"/>
      </geometry>
    </collision>
  </link>
  <link name="right_outer_finger">
    <inertial>
      <origin xyz="0.00030115855001899 0.0373907951953854 -0.0208027427000385" rpy="0 0 0" />
      <mass value="0.022614240507152" />
      <inertia ixx="1.52518312458174E-05" ixy="9.76583423954399E-10" ixz="-5.43838577022588E-10" iyy="6.17694243867776E-06" iyz="6.78636130740228E-06" izz="1.16494917907219E-05" />
    </inertial>
    <visual>
      <origin rpy="0 0 0" xyz="0 0 0"/>
      <geometry>
        <mesh filename="package://mobile_base_urdf/model/gripper/robotiq_2_85/meshes/visual/robotiq_arg2f_85_outer_finger.stl"/>
      </geometry>
      <material name="">
        <color rgba="0.1 0.1 0.1 1"/>
      </material>
    </visual>
    <collision>
      <origin rpy="0 0 0" xyz="0 0 0"/>
      <geometry>
        <mesh filename="package://mobile_base_urdf/model/gripper/robotiq_2_85/meshes/collision/robotiq_arg2f_85_outer_finger.stl"/>
      </geometry>
    </collision>
  </link>
  <link name="right_inner_finger">
    <inertial>
      <origin xyz="0.000299999999999317 0.0160078233491243 -0.0136945669206257" rpy="0 0 0" />
      <mass value="0.0104003125914103" />
      <inertia ixx="2.71909453810972E-06" ixy="1.35402465472579E-21" ixz="-7.1817349065269E-22" iyy="7.69100314106116E-07" iyz="6.74715432769696E-07" izz="2.30315190420171E-06" />
    </inertial>
    <visual>
      <origin rpy="0 0 0" xyz="0 0 0"/>
      <geometry>
        <mesh filename="package://mobile_base_urdf/model/gripper/robotiq_2_85/meshes/visual/robotiq_arg2f_85_inner_finger.stl"/>
      </geometry>
      <material name="">
        <color rgba="0.1 0.1 0.1 1"/>
      </material>
    </visual>
    <collision>
      <origin rpy="0 0 0" xyz="0 0 0"/>
      <geometry>
        <mesh filename="package://mobile_base_urdf/model/gripper/robotiq_2_85/meshes/collision/robotiq_arg2f_85_inner_finger.stl"/>
      </geometry>
    </collision>
  </link>
  <link name="right_inner_finger_pad">
    <visual>
      <origin rpy="0 0 0" xyz="0 0 0"/>
      <geometry>
        <box size="0.022 0.00635 0.0375"/>
      </geometry>
      <material name="">
        <color rgba="0.9 0.9 0.9 1"/>
      </material>
    </visual>
    <collision>
      <origin rpy="0 0 0" xyz="0 0 0"/>
      <geometry>
        <box size="0.022 0.00635 0.0375"/>
      </geometry>
      <material name="">
        <color rgba="0.9 0.0 0.0 1"/>
      </material>
    </collision>
  </link>
  <link name="right_inner_knuckle">
    <inertial>
      <origin xyz="0.000123011831763771 0.0507850843201817 0.00103968640075166" rpy="0 0 0" />
      <mass value="0.0271177346495152" />
      <inertia ixx="2.61910379223783E-05" ixy="-2.43616858946494E-07" ixz="-6.37789906117123E-09" iyy="2.8270243746167E-06" iyz="-5.37200748039765E-07" izz="2.83695868220296E-05" />
    </inertial>
    <visual>
      <origin rpy="0 0 0" xyz="0 0 0"/>
      <geometry>
        <mesh filename="package://mobile_base_urdf/model/gripper/robotiq_2_85/meshes/visual/robotiq_arg2f_85_inner_knuckle.stl"/>
      </geometry>
      <material name="">
        <color rgba="0.1 0.1 0.1 1"/>
      </material>
    </visual>
    <collision>
      <origin rpy="0 0 0" xyz="0 0 0"/>
      <geometry>
        <mesh filename="package://mobile_base_urdf/model/gripper/robotiq_2_85/meshes/collision/robotiq_arg2f_85_inner_knuckle.stl"/>
      </geometry>
    </collision>
  </link>
  <joint name="robotiq_finger_joint" type="revolute">
    <origin rpy="0 0 3.141592653589793" xyz="0 -0.0306011 0.054904"/>
    <parent link="robotiq_base_link"/>
    <child link="left_outer_knuckle"/>
    <axis xyz="1 0 0"/>
    <limit effort="1000" lower="-0.001" upper="0.8" velocity="2.0"/>
    <dynamics damping="0.01" friction="0.001"/>
  </joint>
  <joint name="left_outer_finger_joint" type="fixed">
    <origin rpy="0 0 0" xyz="0 0.0315 -0.0041"/>
    <parent link="left_outer_knuckle"/>
    <child link="left_outer_finger"/>
    <axis xyz="1 0 0"/>
  </joint>
  <joint name="left_inner_knuckle_joint" type="revolute">
    <!-- <origin xyz="0 ${reflect * -0.0127} 0.06142" rpy="${pi / 2 + .725} 0 ${(reflect - 1) * pi / 2}" /> -->
    <origin rpy="0 0 3.141592653589793" xyz="0 -0.0127 0.06142"/>
    <parent link="robotiq_base_link"/>
    <child link="left_inner_knuckle"/>
    <axis xyz="1 0 0"/>
    <limit effort="1000" lower="-0.001" upper="0.8757" velocity="2.0"/>
    <dynamics damping="0.01" friction="0.001"/>
    <!-- <mimic joint="robotiq_finger_joint" multiplier="1" offset="0"/> -->
  </joint>
  <joint name="left_inner_finger_joint" type="revolute">
    <origin rpy="0 0 0" xyz="0 0.0061 0.0471"/>
    <parent link="left_outer_finger"/>
    <child link="left_inner_finger"/>
    <axis xyz="1 0 0"/>
    <limit effort="1000" lower="-0.8757" upper="0.001" velocity="2.0"/>
    <dynamics damping="0.01" friction="0.001"/>
    <!-- <mimic joint="robotiq_finger_joint" multiplier="-1" offset="0"/> -->
  </joint>
  <joint name="left_inner_finger_pad_joint" type="fixed">
    <origin rpy="0 0 0" xyz="0 -0.0220203446692936 0.03242"/>
    <parent link="left_inner_finger"/>
    <child link="left_inner_finger_pad"/>
    <axis xyz="0 0 1"/>
  </joint>
  <joint name="right_outer_knuckle_joint" type="revolute">
    <origin rpy="0 0 0" xyz="0 0.0306011 0.054904"/>
    <parent link="robotiq_base_link"/>
    <child link="right_outer_knuckle"/>
    <axis xyz="1 0 0"/>
    <limit effort="1000" lower="-0.001" upper="0.81" velocity="2.0"/>
    <dynamics damping="0.01" friction="0.001"/>
    <!-- <mimic joint="robotiq_finger_joint" multiplier="1" offset="0"/> -->
  </joint>
  <joint name="right_outer_finger_joint" type="fixed">
    <origin rpy="0 0 0" xyz="0 0.0315 -0.0041"/>
    <parent link="right_outer_knuckle"/>
    <child link="right_outer_finger"/>
    <axis xyz="1 0 0"/>
  </joint>
  <joint name="right_inner_knuckle_joint" type="revolute">
    <!-- <origin xyz="0 ${reflect * -0.0127} 0.06142" rpy="${pi / 2 + .725} 0 ${(reflect - 1) * pi / 2}" /> -->
    <origin rpy="0 0 0.0" xyz="0 0.0127 0.06142"/>
    <parent link="robotiq_base_link"/>
    <child link="right_inner_knuckle"/>
    <axis xyz="1 0 0"/>
    <limit effort="1000" lower="-0.001" upper="0.8757" velocity="2.0"/>
    <dynamics damping="0.01" friction="0.001"/>
    <!-- <mimic joint="robotiq_finger_joint" multiplier="1" offset="0"/> -->
  </joint>
  <joint name="right_inner_finger_joint" type="revolute">
    <origin rpy="0 0 0" xyz="0 0.0061 0.0471"/>
    <parent link="right_outer_finger"/>
    <child link="right_inner_finger"/>
    <axis xyz="1 0 0"/>
    <limit effort="1000" lower="-0.8757" upper="0.001" velocity="2.0"/>
    <dynamics damping="0.01" friction="0.001"/>
    <!-- <mimic joint="robotiq_finger_joint" multiplier="-1" offset="0"/> -->
  </joint>
  <joint name="right_inner_finger_pad_joint" type="fixed">
    <origin rpy="0 0 0" xyz="0 -0.0220203446692936 0.03242"/>
    <parent link="right_inner_finger"/>
    <child link="right_inner_finger_pad"/>
    <axis xyz="0 0 1"/>
  </joint>
  <transmission name="finger_joint_trans">
    <type>transmission_interface/SimpleTransmission</type>
    <joint name="robotiq_finger_joint">
      <hardwareInterface>PositionJointInterface</hardwareInterface>
    </joint>
    <actuator name="finger_joint_motor">
      <mechanicalReduction>1</mechanicalReduction>
    </actuator>
  </transmission>
  <!-- Mobile end-effector -->
  <link name="mobile_end_effector">
    <inertial>
      <mass value="0.00001"/>
      <origin rpy="0 0 0" xyz="0 0 0"/>
      <inertia ixx="0" ixy="0" ixz="0" iyy="0" iyz="0" izz="0"/>
    </inertial>
    <visual>
      <origin rpy="-1.57079632679489661923 0 0" xyz="0 0 0"/>
      <geometry>
        <mesh filename="package://mobile_base_urdf/model/base/v3/meshes/Coordinate.STL"/>
      </geometry>
    </visual>
  </link>
  <joint name="joint_mobile_end_effector_end_effector" type="revolute">
    <parent link="robotiq_base_link"/>
    <child link="mobile_end_effector"/>
    <axis xyz="1 0 0"/>
    <limit effort="1e-8" lower="0" upper="1e-8" velocity="1e-8"/>
    <origin rpy="0 -1.57079632679489661923 3.141592653589793" xyz="0 0 0.12"/>
  </joint> 
</robot>
